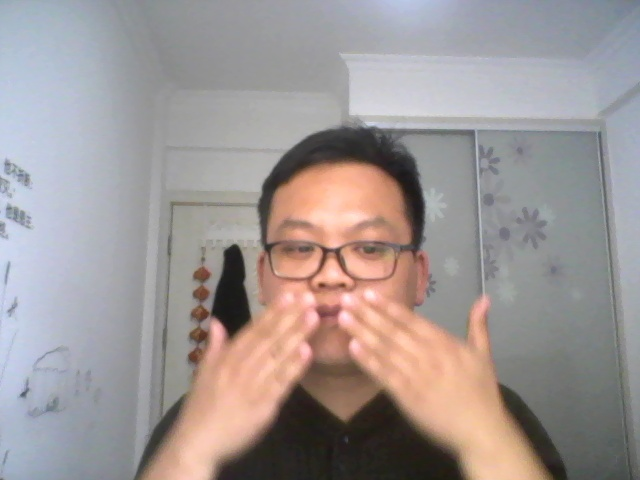Thank You: (158, 281, 523, 453)
